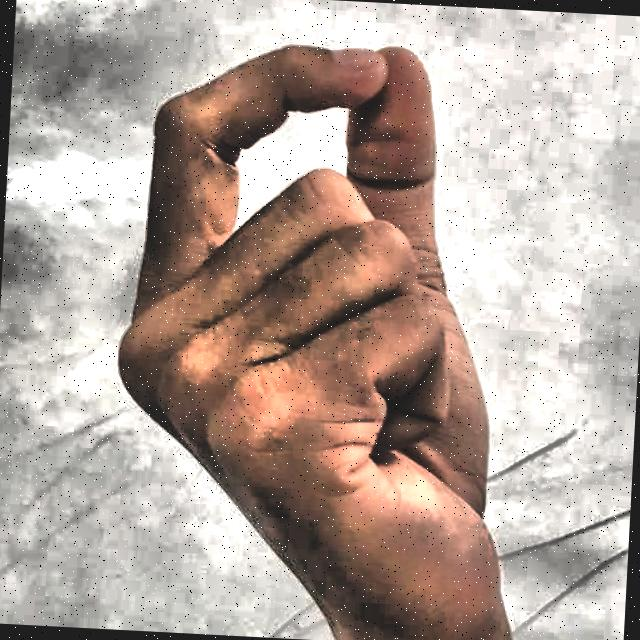Gha: (73, 7, 572, 640)
